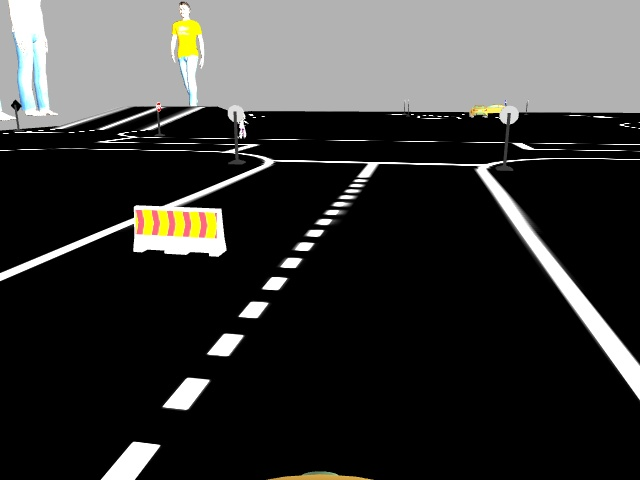ClosedRoadStand: (134, 206, 222, 254)
